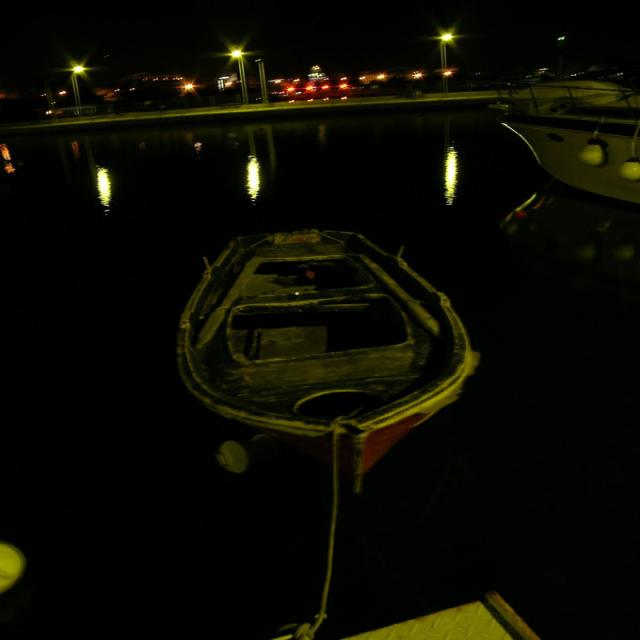Boat: (164, 203, 496, 474), (500, 52, 640, 218)
